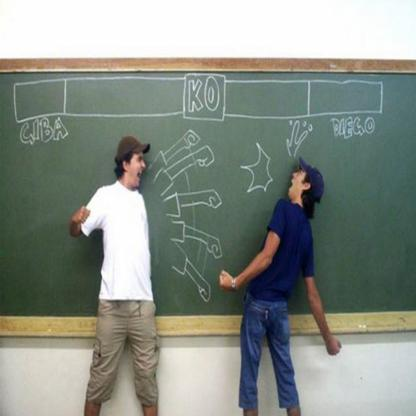face: (130, 152, 146, 187), (289, 169, 309, 197)
